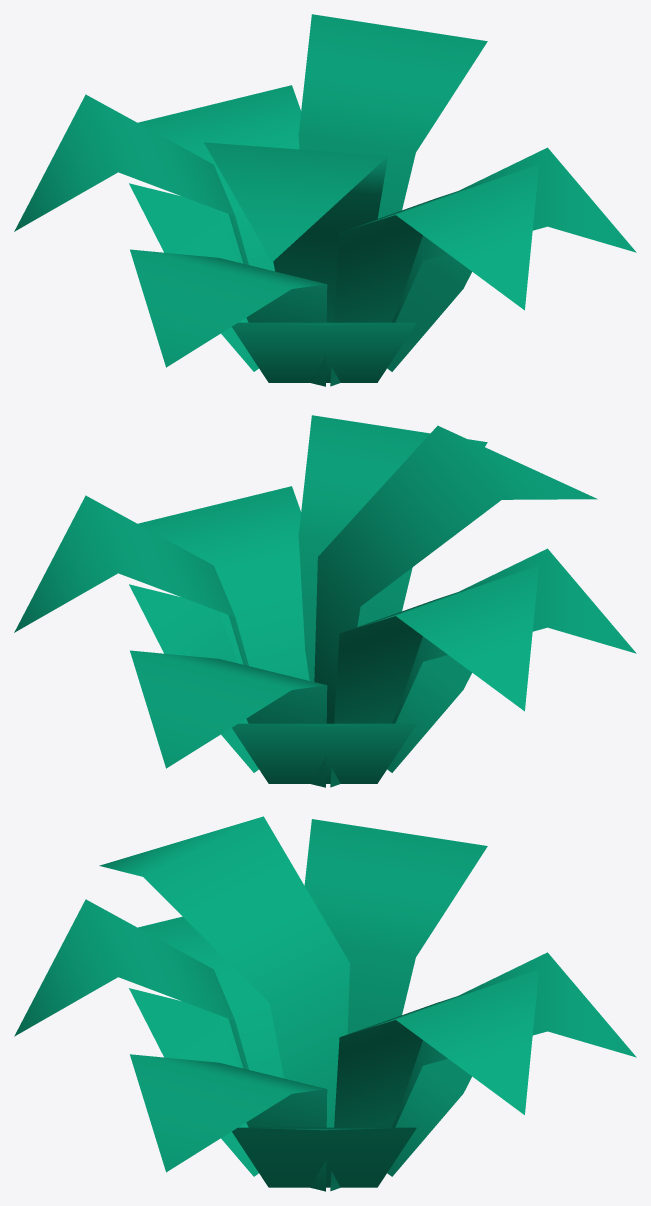
The model's file is PlantOnSand1.fbx.
3 views of the same model, one above another, from view 1: azimuth 30°, elevation 25°; view 2: azimuth 150°, elevation 25°; view 3: azimuth 270°, elevation 25° (orthographic).
Visible parts, largest first — view 1: mergedBlocks; view 2: mergedBlocks; view 3: mergedBlocks.
Boxes of the visible parts, left/top/right/bottom form: mergedBlocks: left=14, top=14, right=636, bottom=386; mergedBlocks: left=14, top=415, right=636, bottom=787; mergedBlocks: left=14, top=816, right=636, bottom=1191.
Size of the model in its own units: 77.89 by 42.19 by 85.61.
